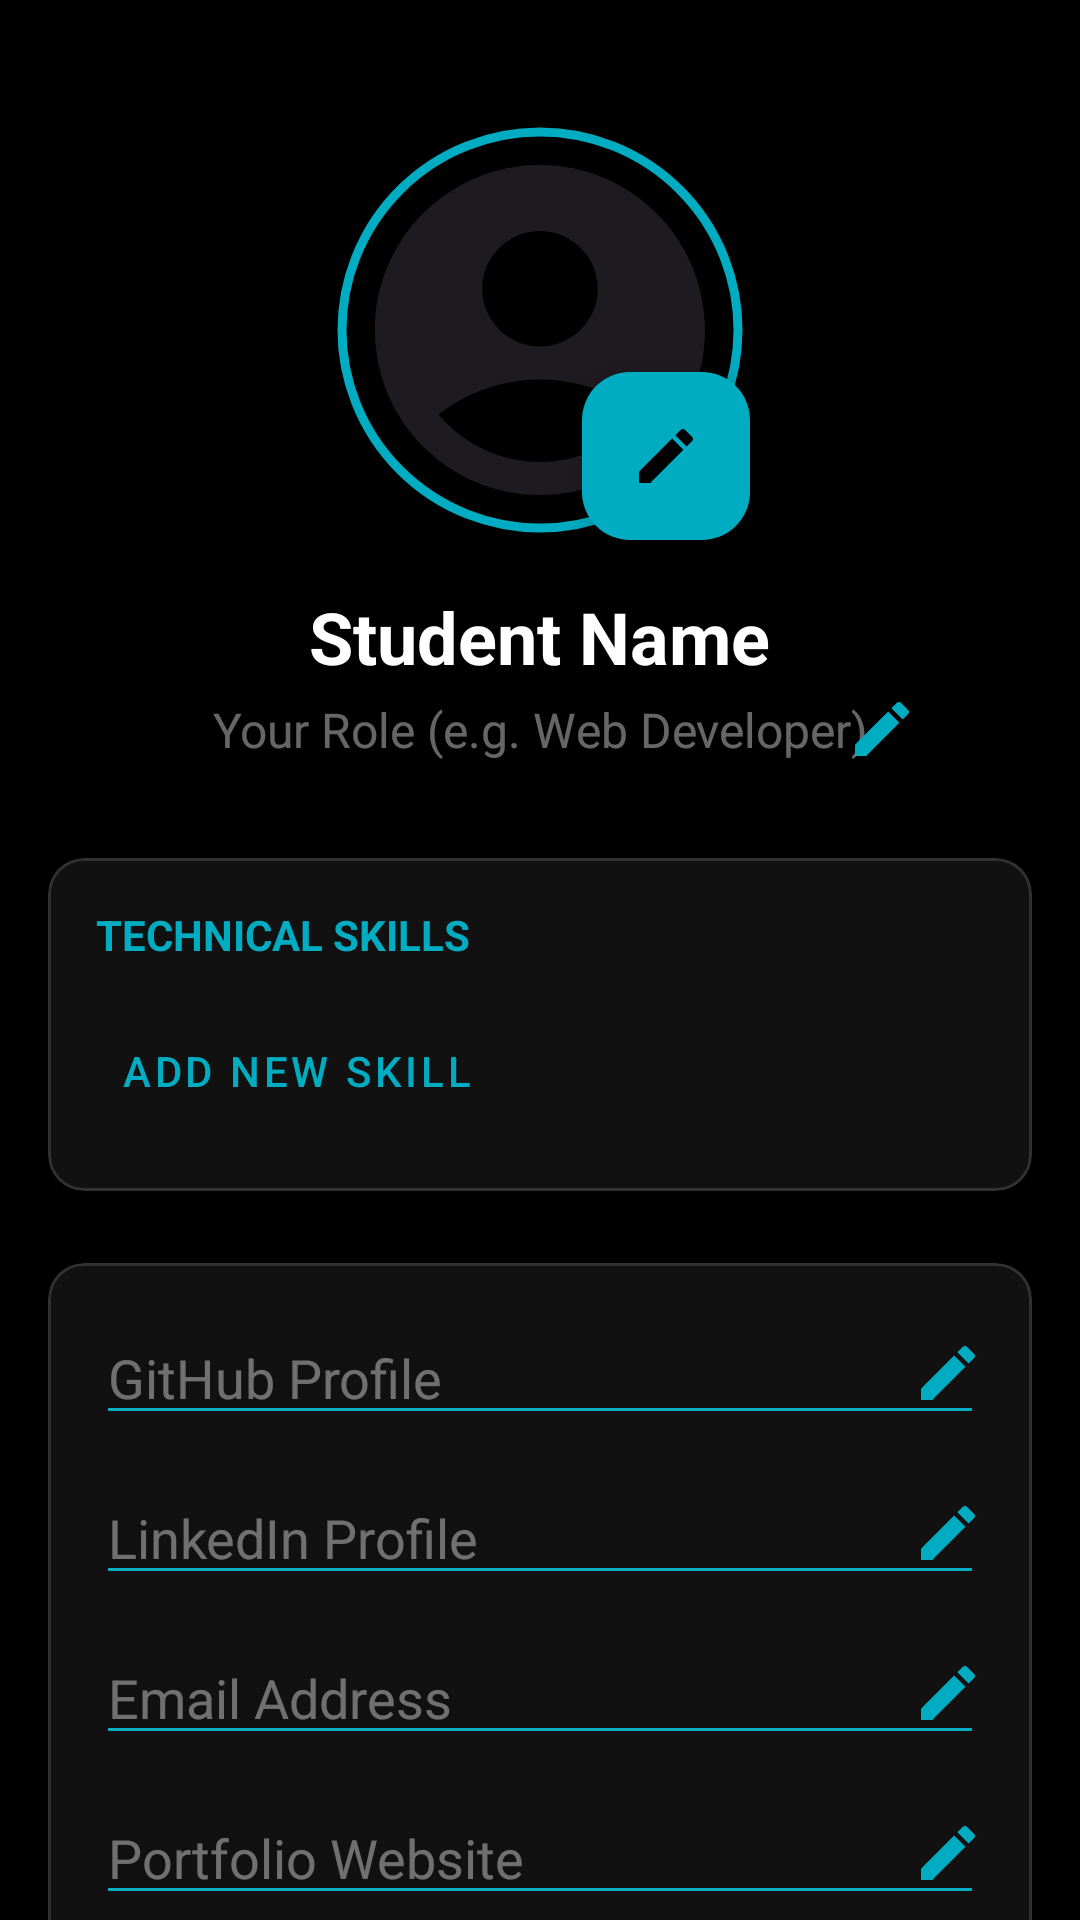

Icon click points for this 1080x1920 phone screenshot, format [x,y]:
edit: [666,456], [880,730], [948,1373], [948,1533], [948,1693], [948,1853]
